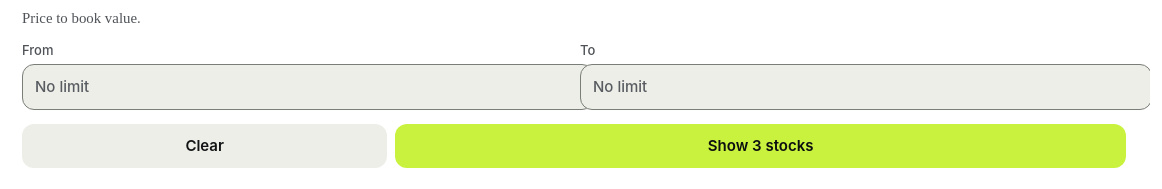
Test case: RangeEditor › has From and To fields, Clear and the result as the action
In the field labelled "From": x=308, y=86 22,64 -> 594,110, type "0.5"
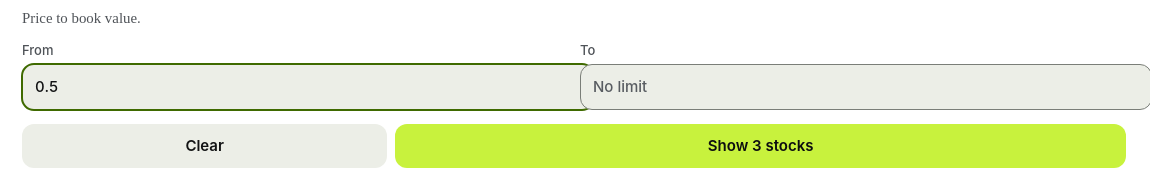
In the field labelled "To": x=865, y=86 580,64 -> 1150,110, type "1.2"
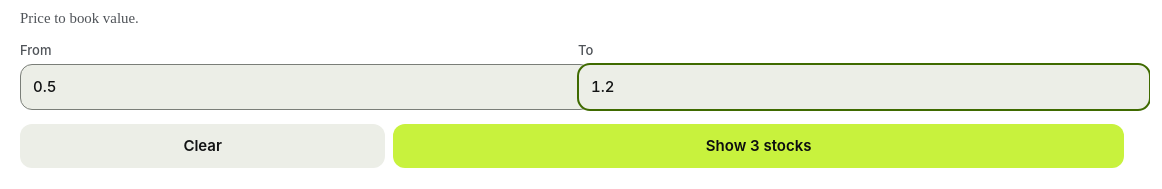
Click the button "Show 3 stocks": x=759, y=146 393,124 -> 1124,168
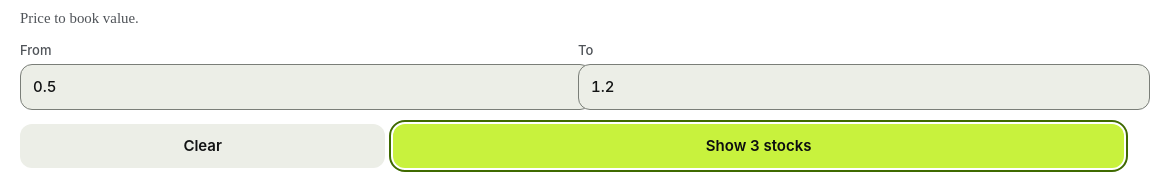
Click the button "Clear": x=203, y=146 20,124 -> 385,168
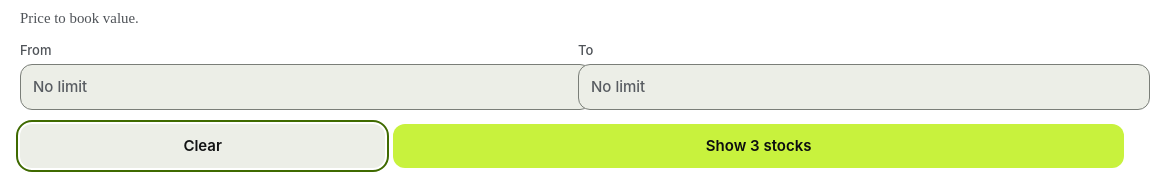
Expected: the field labelled "To" is empty, 578,64 -> 1150,110
